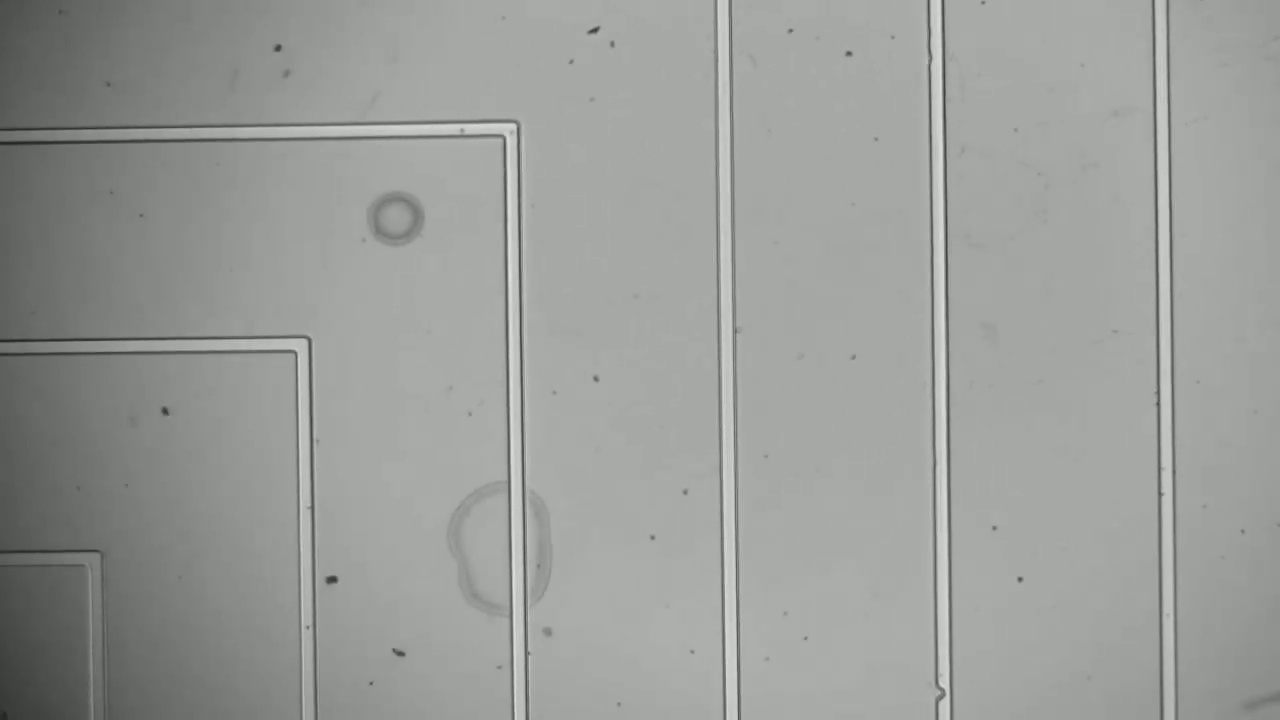edge_bite: (928, 677, 963, 712)
